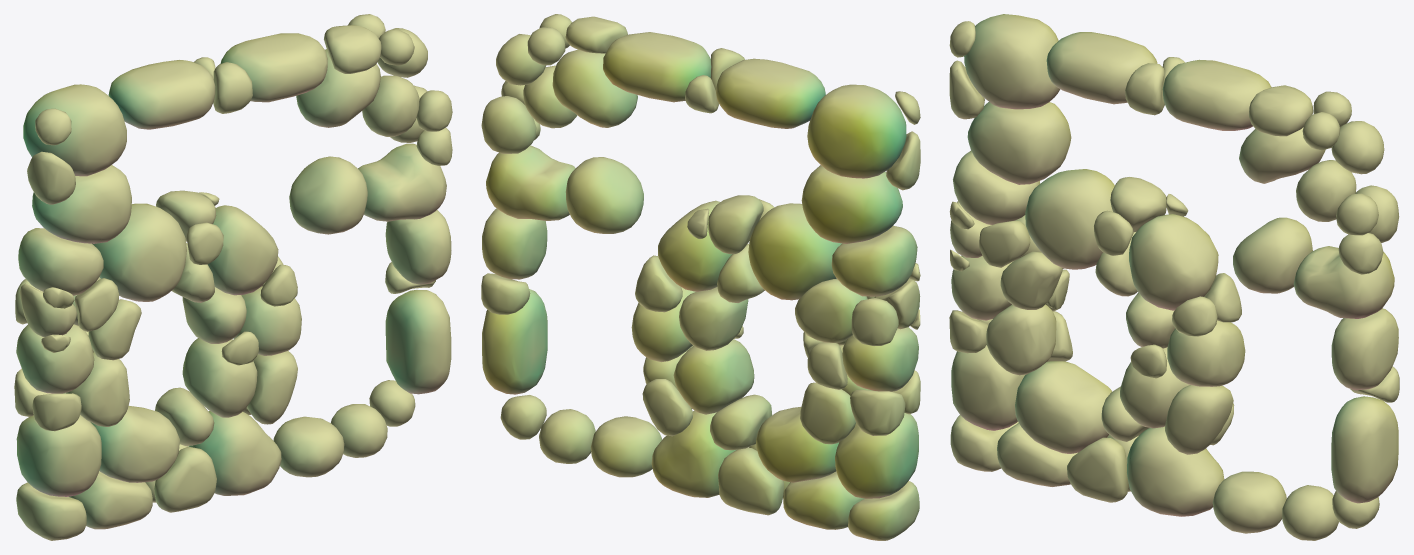
Rendered from balloons_low.glb.
The picture shows the model from 3 angles, left to right: view 1: azimuth 30°, elevation 25°; view 2: azimuth 150°, elevation 25°; view 3: azimuth 330°, elevation 25°; orthographic projection. The views are drawn at different scales.
Visible parts, largest first — view 1: vellum; view 2: vellum; view 3: vellum.
Part boxes in pixels (box(x1,y1,x2,y2)): vellum: box(14, 14, 452, 540); vellum: box(481, 14, 920, 540); vellum: box(949, 14, 1399, 540).
Bounding box in the file's own units: 1.07 × 1.07 × 0.1796.
